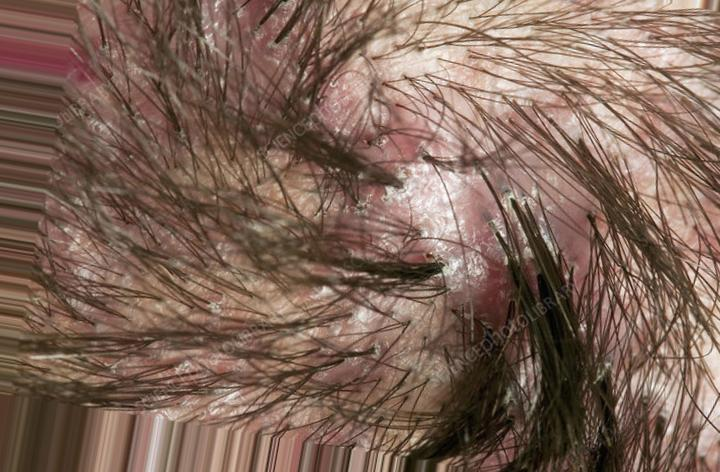Folliculitis: (269, 58, 603, 340)
